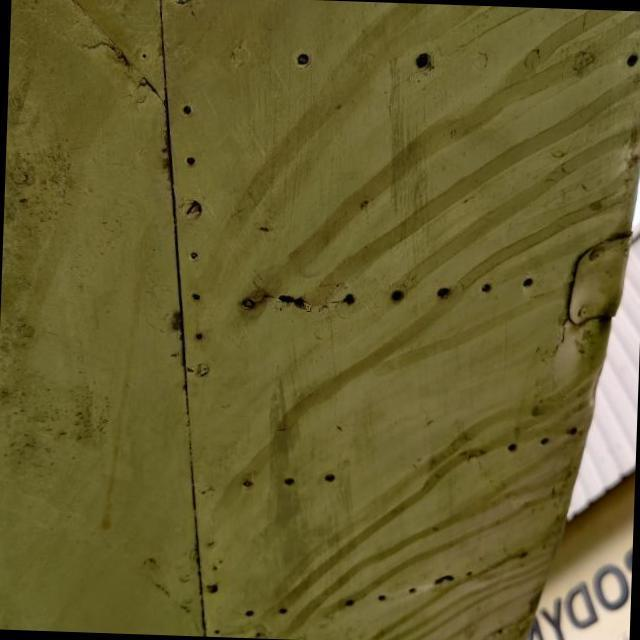Rupture: (270, 278, 320, 324), (424, 565, 460, 596)
